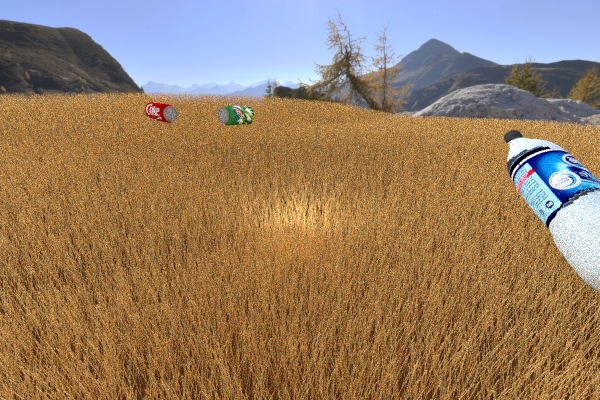Plastic Bottle: (503, 129, 600, 303), (144, 101, 178, 123), (217, 105, 254, 125)
